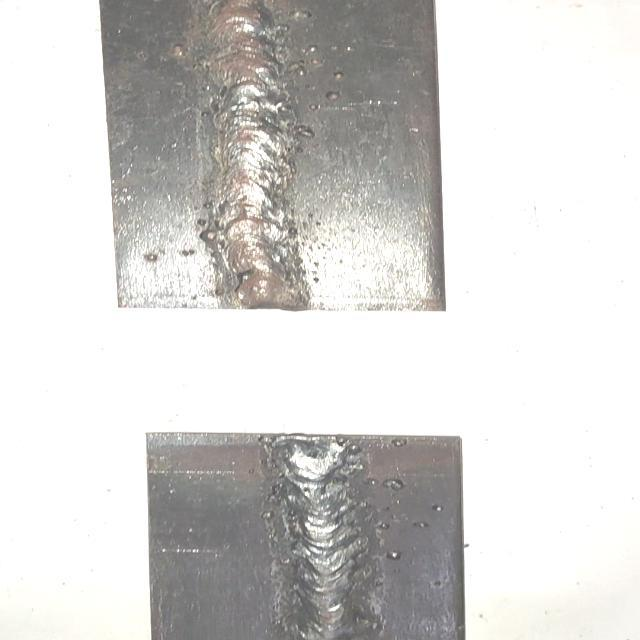Welding Line: (206, 0, 297, 301), (276, 437, 364, 640)
Workpiece: (92, 0, 452, 314), (142, 427, 474, 640)
